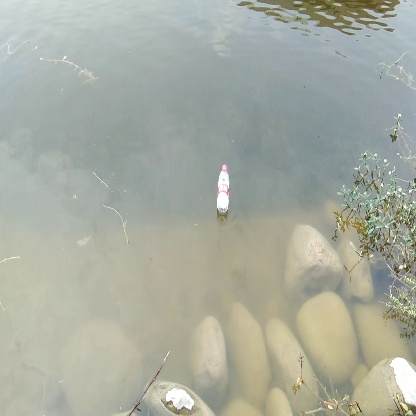bottle: (213, 162, 234, 217)
